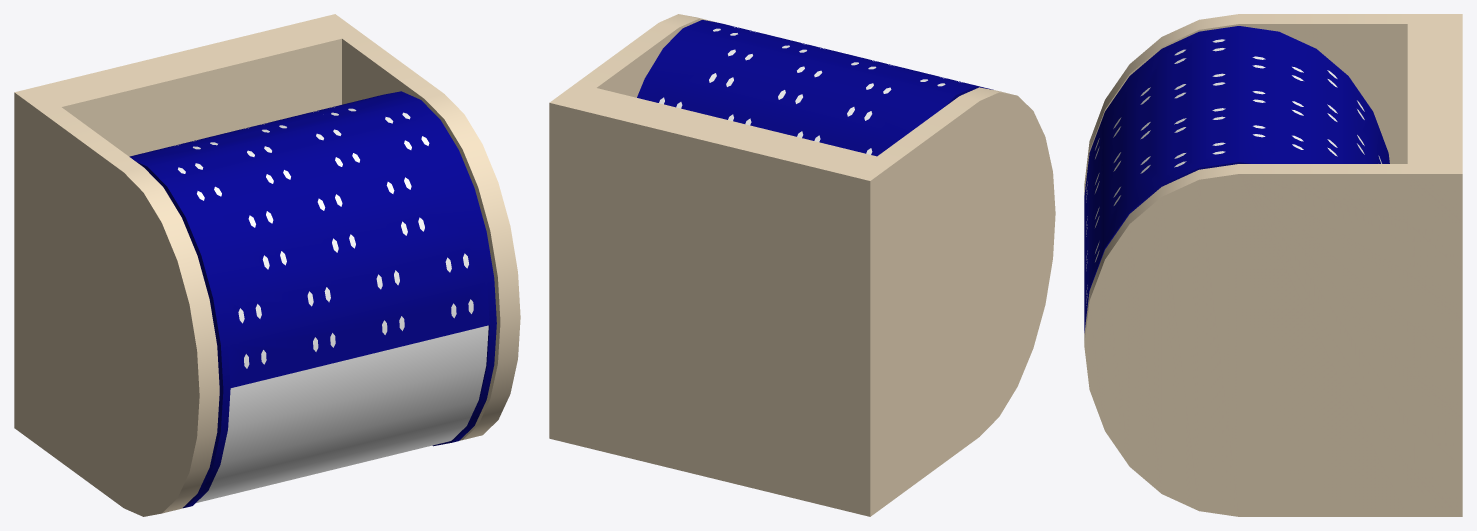
The model's file is sh-contrib-wall-lamp.glb.
3 renders of one model, left to right at view 1: azimuth 30°, elevation 25°; view 2: azimuth 150°, elevation 25°; view 3: azimuth 270°, elevation 25°, orthographic. The views are drawn at different scales.
Parts seen in each view (by area): view 1: wood_1, sweethome3d_opening_on_hinge_1_metal_5, sweethome3d_opening_on_hinge_1_transparent_4; view 2: wood_1, sweethome3d_opening_on_hinge_1_metal_5, sweethome3d_opening_on_hinge_1_transparent_4; view 3: wood_1, sweethome3d_opening_on_hinge_1_metal_5, sweethome3d_opening_on_hinge_1_transparent_4.
Part boxes in pixels (x1=…): wood_1: x1=14, y1=14, x2=520, y2=516; sweethome3d_opening_on_hinge_1_metal_5: x1=129, y1=91, x2=496, y2=508; sweethome3d_opening_on_hinge_1_transparent_4: x1=178, y1=108, x2=488, y2=502; wood_1: x1=549, y1=14, x2=1055, y2=516; sweethome3d_opening_on_hinge_1_metal_5: x1=637, y1=20, x2=993, y2=156; sweethome3d_opening_on_hinge_1_transparent_4: x1=659, y1=28, x2=945, y2=154; wood_1: x1=1084, y1=14, x2=1462, y2=516; sweethome3d_opening_on_hinge_1_metal_5: x1=1084, y1=26, x2=1389, y2=332; sweethome3d_opening_on_hinge_1_transparent_4: x1=1086, y1=39, x2=1381, y2=305.
Bounding box in the file's own units: 1 × 1 × 1.
